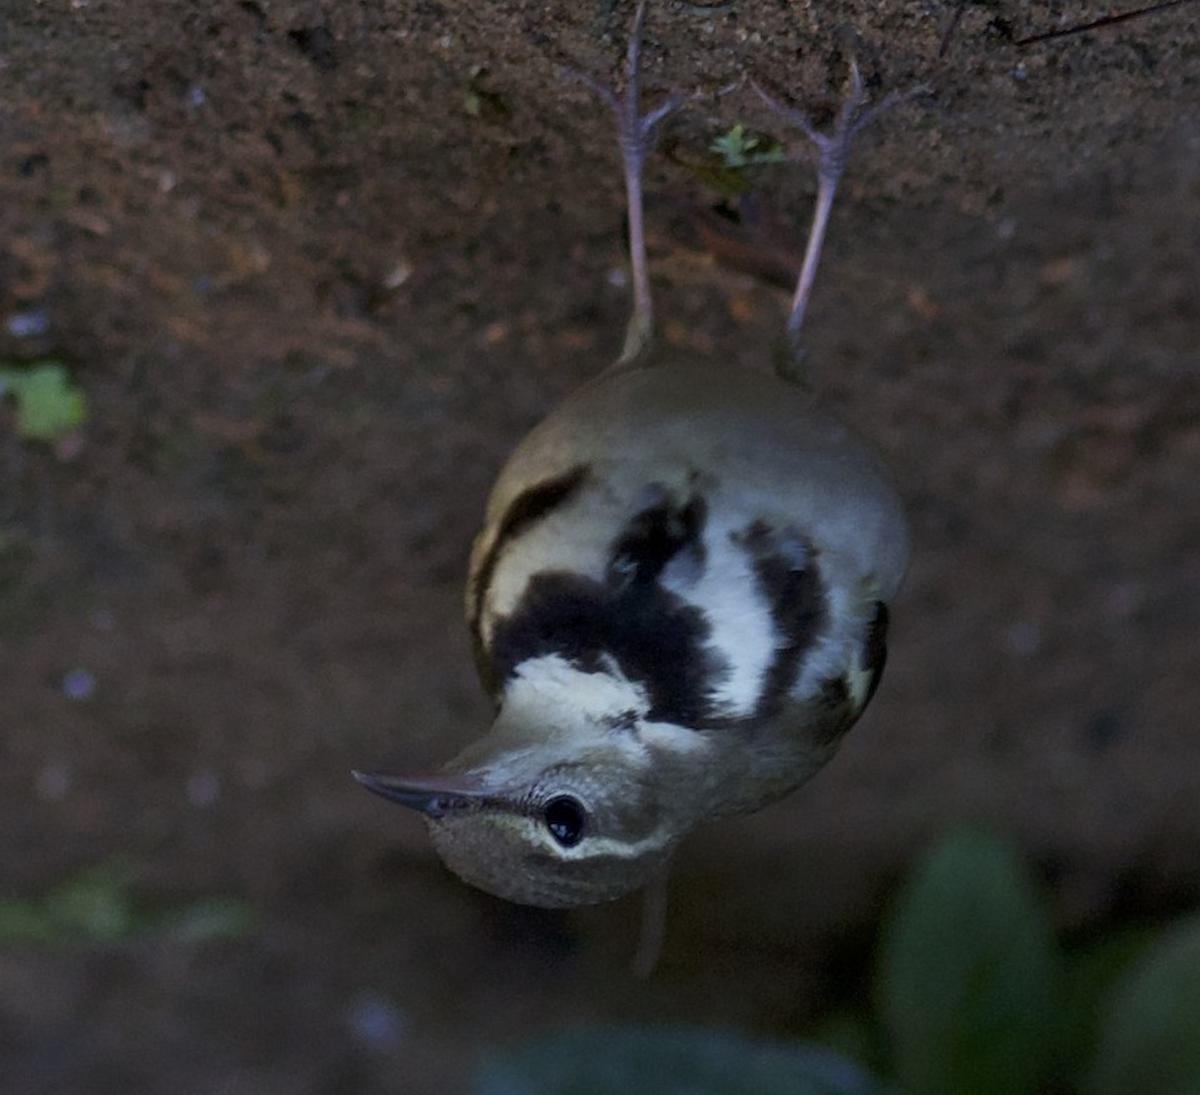wagtail: (361, 70, 873, 904)
